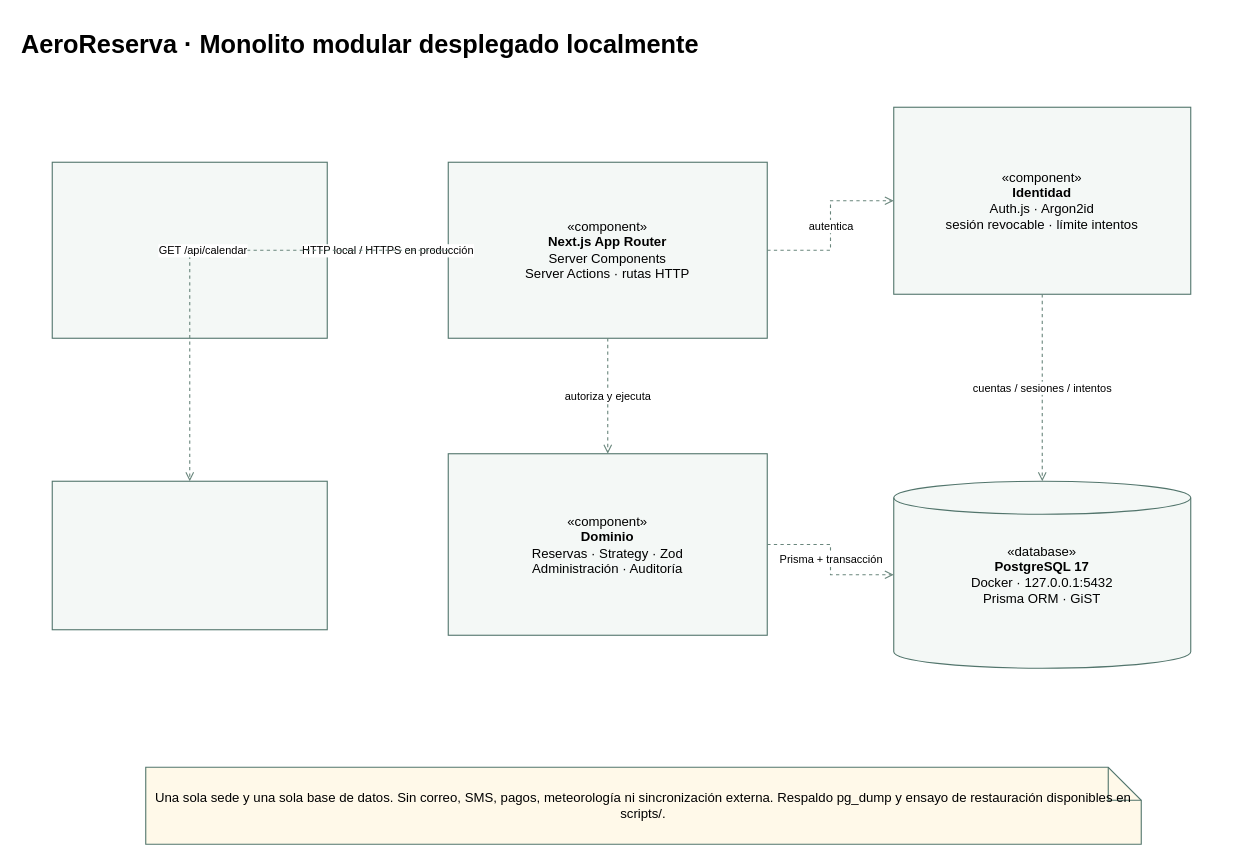
The diagram is 1258 pixels wide and 864 high, and some of its shapes have lost their labels. Here are the shapes that lost their labels. From the top down, the centre of each, then its label:
the point at 189,249: «component» Interfaz web Dashboard + formularios React · Tailwind CSS
the point at 189,555: «component» iCalendar Escape y privacidad UTC + identificadores estables
